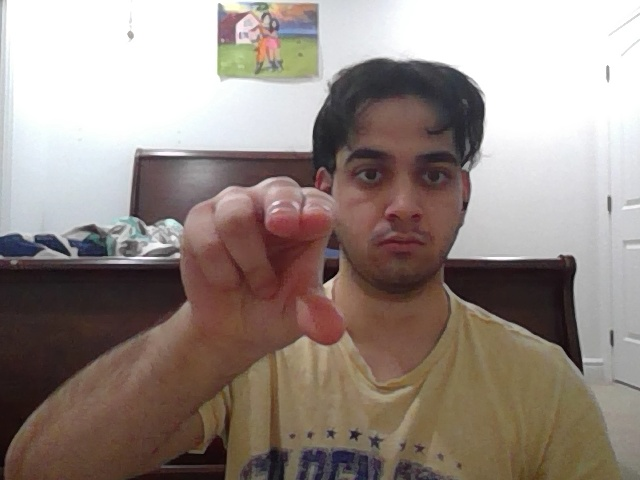No: (180, 174, 352, 353)
